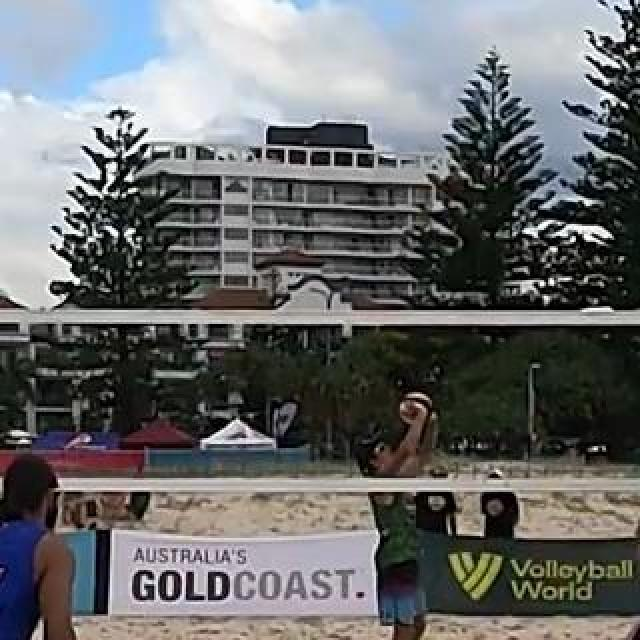volleyball: (401, 392, 435, 424)
